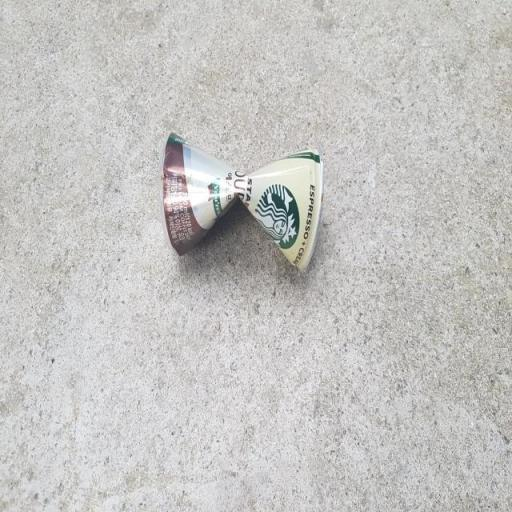metal: (156, 92, 370, 330)
